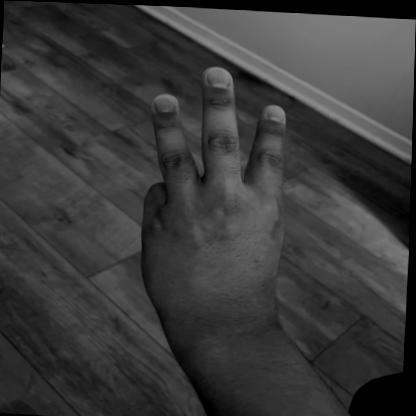W: (132, 55, 297, 319)
